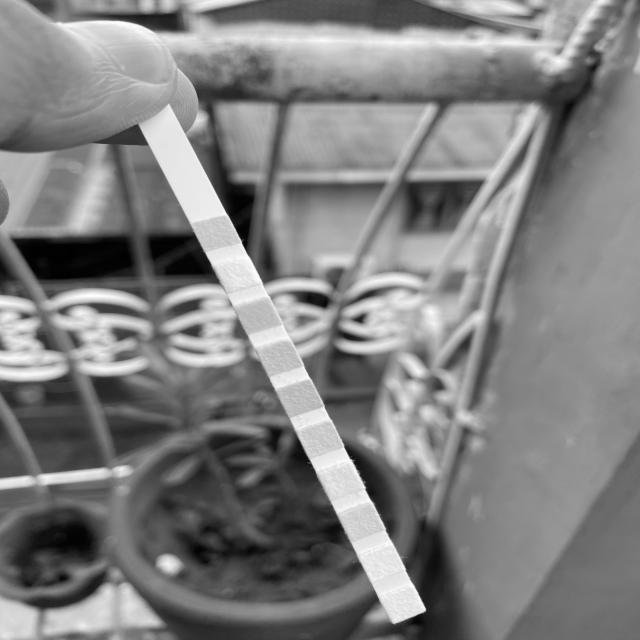Bilirubin: (226, 262, 250, 286)
Blood: (286, 386, 313, 410)
Glucose: (205, 220, 229, 246)
Ketone: (246, 304, 271, 328)
Leukocytes: (389, 594, 417, 615)
Nitrite: (369, 552, 396, 574)
Protein: (326, 469, 354, 492)
SpGravity: (268, 345, 292, 369)
Urobilinogen: (347, 510, 375, 534)
background: (0, 0, 640, 640)
pH: (307, 428, 334, 451)
strip: (142, 121, 427, 624)
